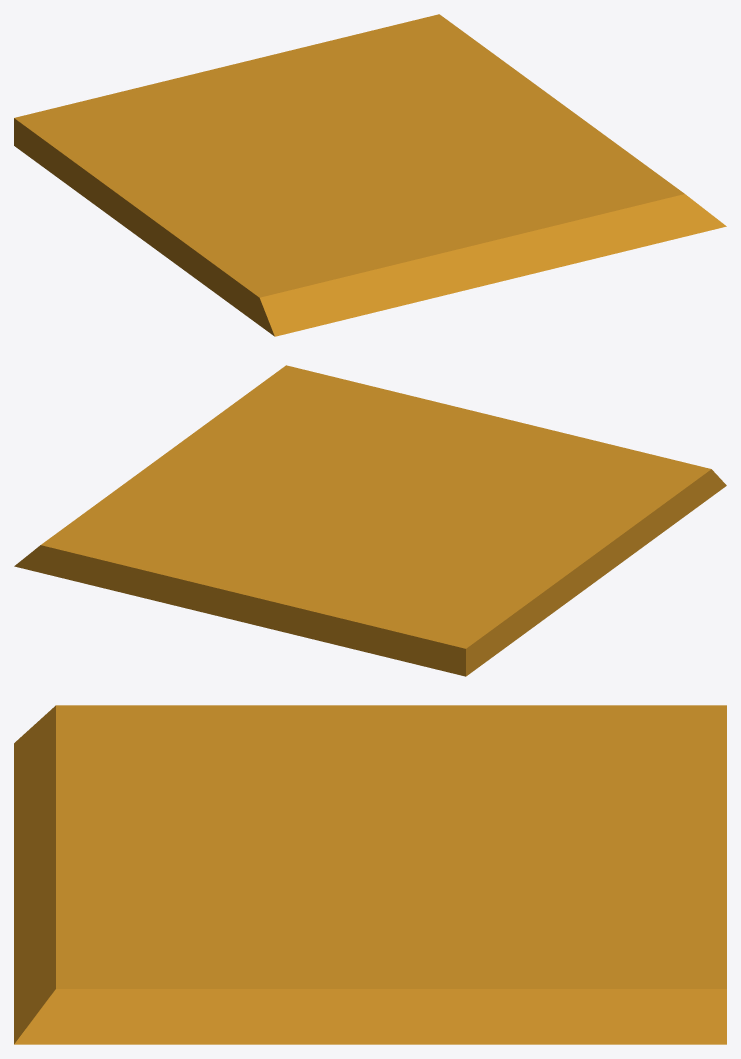
Rendered from Roof-Eaves-4x4-Corner.FBX.
3 renders of one model, top to bottom at view 1: azimuth 30°, elevation 25°; view 2: azimuth 150°, elevation 25°; view 3: azimuth 270°, elevation 25°, orthographic. The views are drawn at different scales.
Parts seen in each view (by area): view 1: Roof-Eaves-4x4-Corner; view 2: Roof-Eaves-4x4-Corner; view 3: Roof-Eaves-4x4-Corner.
Boxes of the visible parts, x1,y1,x2,y2 form: Roof-Eaves-4x4-Corner: [14, 14, 726, 336]; Roof-Eaves-4x4-Corner: [14, 365, 726, 676]; Roof-Eaves-4x4-Corner: [14, 705, 726, 1044].
Size of the model in its own units: 42.5 by 42.5 by 2.5.
